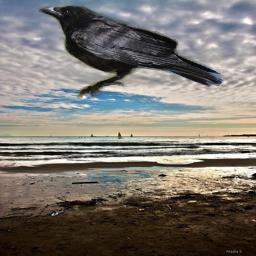Crow: (38, 4, 224, 99)
